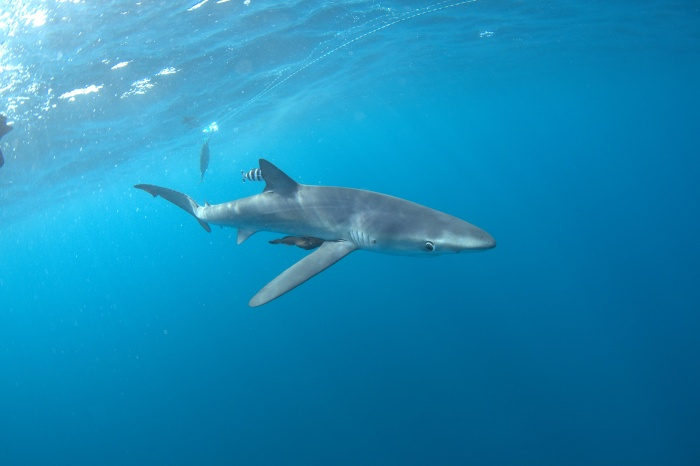Azul: (136, 146, 503, 323)
